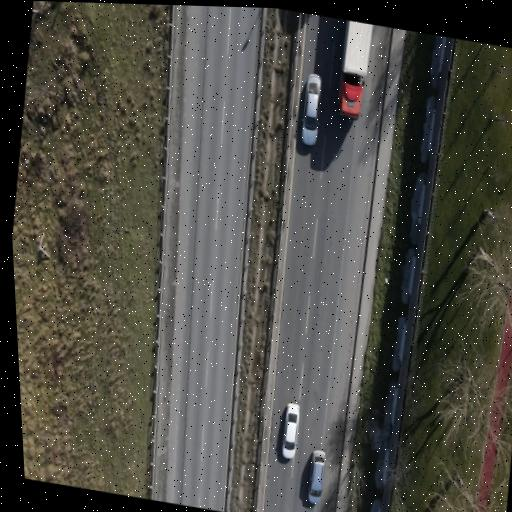car: (302, 73, 322, 144), (283, 402, 300, 458), (308, 450, 325, 503)
truck: (339, 20, 373, 118)
